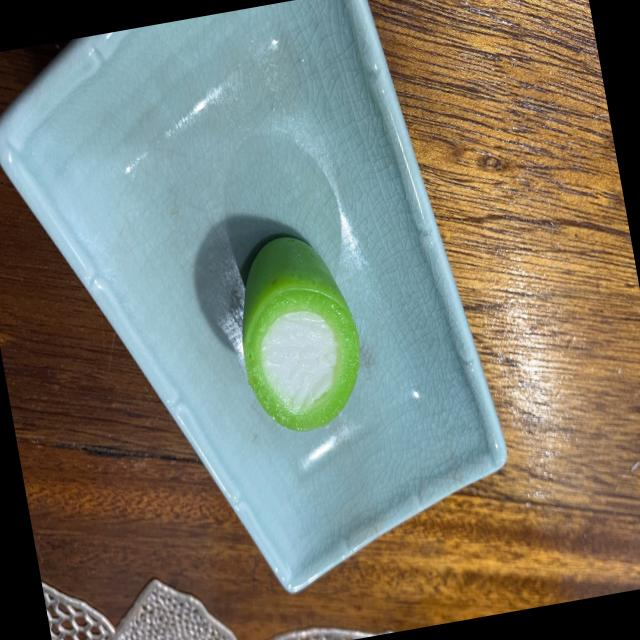nona-manis: (242, 236, 360, 431)
